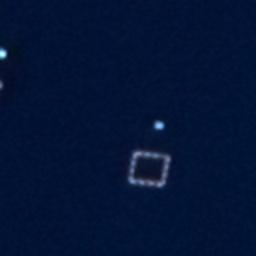square_solid: (125, 147, 174, 192)
